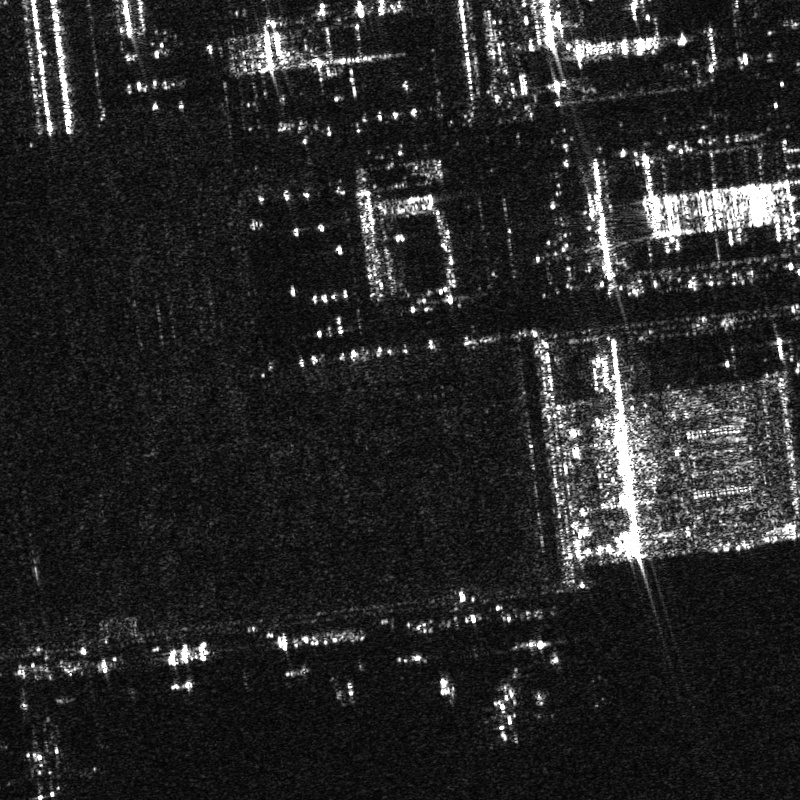A220: (465, 666, 548, 745)
